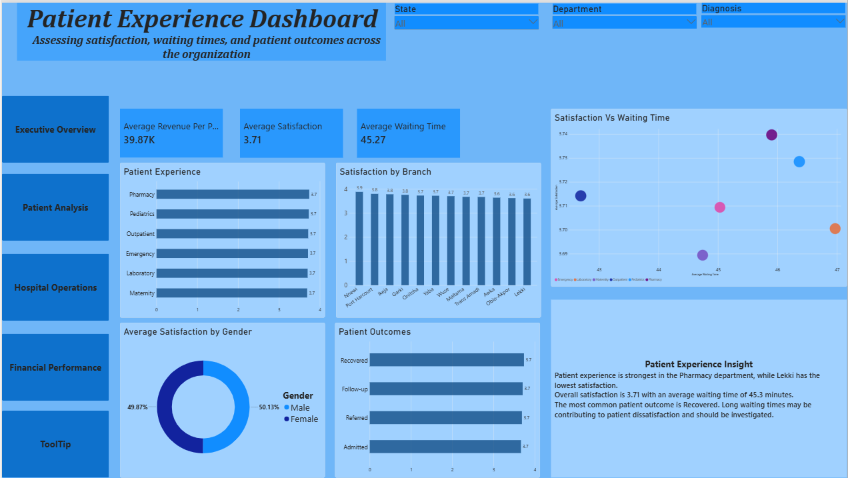

The dashboard page shown, as its layout file describes it:
{"tool":"powerbi","page":{"name":"Patient Experience","canvas":[3840,2160],"ordinal":4},"visuals":[{"type":"shape","box":[68.1,0,1676.2,263.5],"z":0},{"type":"clusteredBarChart","fields":{"Category":["Patient_Visits.Department"],"Y":["Date_Table.Average Satisfaction"]},"box":[536,726.8,931.2,704.1],"z":1000},{"type":"clusteredColumnChart","title":"Satisfaction by Branch","fields":{"Category":["Patient_Visits.Branch"],"Y":["Date_Table.Average Satisfaction"]},"box":[1517.2,726.8,931.2,704.1],"z":2000},{"type":"scatterChart","title":"Satisfaction Vs Waiting Time","fields":{"Series":["Patient_Visits.Department"],"Size":["Date_Table.Total Visits"],"X":["Date_Table.Average Waiting Time"],"Y":["Date_Table.Average Satisfaction"]},"box":[2493.9,481.5,1344.6,808.6],"z":3000},{"type":"clusteredBarChart","title":"Patient Outcomes","fields":{"Category":["Patient_Visits.Outcome"],"Y":["Date_Table.Average Satisfaction"]},"box":[1512.7,1453.6,931.2,704.1],"z":4000},{"type":"donutChart","fields":{"Category":["Patient_Visits.Gender"],"Y":["Date_Table.Average Satisfaction"]},"box":[536,1453.6,931.2,704.1],"z":5000},{"type":"cardVisual","fields":{"Data":["Date_Table.Patient Experience Insight"]},"box":[2493.9,1349.2,1344.6,808.6],"z":6000},{"type":"textbox","box":[113.6,0,1630.8,263.5],"z":6001},{"type":"slicer","fields":{"Values":["Patient_Visits.State"]},"box":[1776.2,4.5,667.8,168.1],"z":6002},{"type":"slicer","fields":{"Values":["Patient_Visits.Department"]},"box":[2493.9,4.5,667.8,113.6],"z":6003},{"type":"slicer","fields":{"Values":["Patient_Visits.Diagnosis"]},"box":[3170.7,0,667.8,113.6],"z":6004},{"type":"cardVisual","fields":{"Data":["Date_Table.Average Revenue Per Patient"]},"box":[536,481.5,467.9,222.6],"z":6005},{"type":"cardVisual","fields":{"Data":["Date_Table.Average Satisfaction"]},"box":[1081.1,481.5,468,223],"z":6006},{"type":"cardVisual","fields":{"Data":["Date_Table.Average Waiting Time"]},"box":[1612.6,481.5,468,223],"z":6007},{"type":"actionButton","box":[0,422.5,486.1,304.4],"z":6008},{"type":"actionButton","box":[0,776.8,486.1,304.4],"z":6009},{"type":"actionButton","box":[0,1140.2,486.1,304.4],"z":6010},{"type":"actionButton","box":[0,1503.6,486.1,304.4],"z":6011},{"type":"actionButton","box":[0,1853.4,486.1,304.4],"z":6012}]}

Visuals, with their boxes in screenshot pixels (x1, y1, x2, y2), scaled from the page's 3840x2160 canvas onto the 849x478 screenshot:
shape: bbox(15, 0, 386, 58)
clusteredBarChart - Patient_Visits.Department x Date_Table.Average Satisfaction: bbox(119, 161, 324, 317)
"Satisfaction by Branch" clusteredColumnChart: bbox(335, 161, 541, 317)
"Satisfaction Vs Waiting Time" scatterChart: bbox(551, 107, 848, 285)
"Patient Outcomes" clusteredBarChart: bbox(334, 322, 540, 477)
donutChart - Patient_Visits.Gender x Date_Table.Average Satisfaction: bbox(119, 322, 324, 477)
cardVisual - Date_Table.Patient Experience Insight: bbox(551, 299, 848, 477)
textbox: bbox(25, 0, 386, 58)
slicer - Patient_Visits.State: bbox(393, 1, 540, 38)
slicer - Patient_Visits.Department: bbox(551, 1, 699, 26)
slicer - Patient_Visits.Diagnosis: bbox(701, 0, 848, 25)
cardVisual - Date_Table.Average Revenue Per Patient: bbox(119, 107, 222, 156)
cardVisual - Date_Table.Average Satisfaction: bbox(239, 107, 342, 156)
cardVisual - Date_Table.Average Waiting Time: bbox(357, 107, 460, 156)
actionButton: bbox(0, 93, 107, 161)
actionButton: bbox(0, 172, 107, 239)
actionButton: bbox(0, 252, 107, 320)
actionButton: bbox(0, 333, 107, 400)
actionButton: bbox(0, 410, 107, 477)
